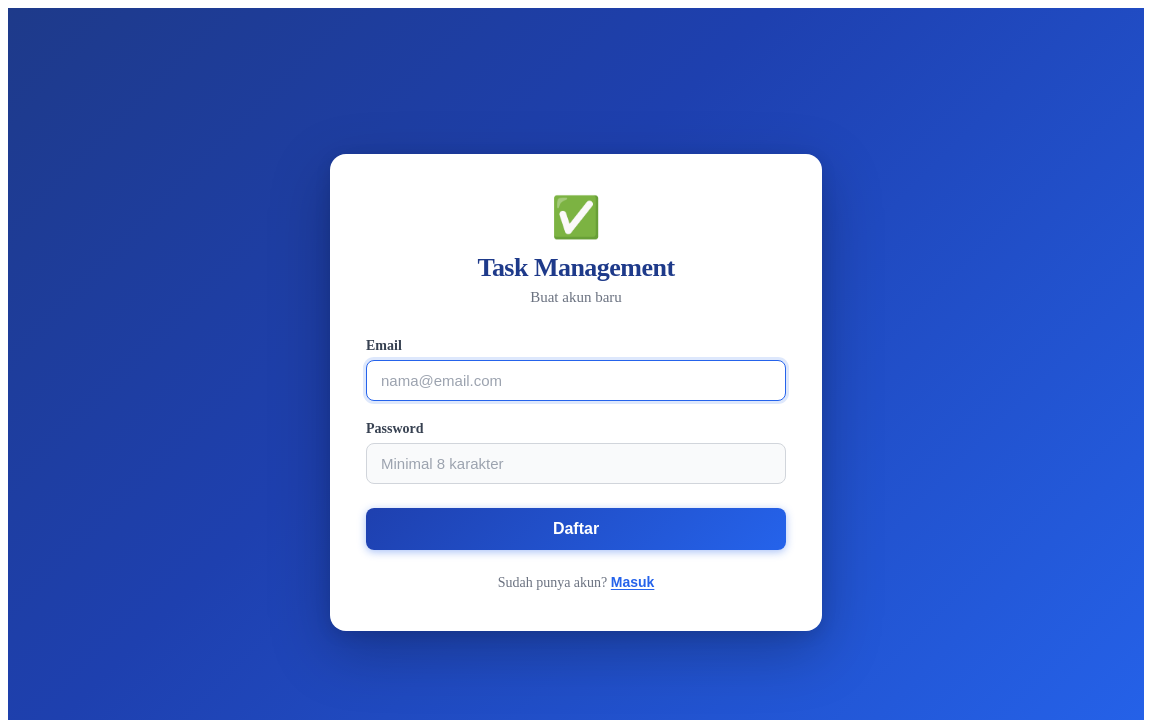
Test: RegisterForm › tombol disabled saat submitting
In the field labelled "Email": (576, 380) [366,360,786,400], type "user@example.com"
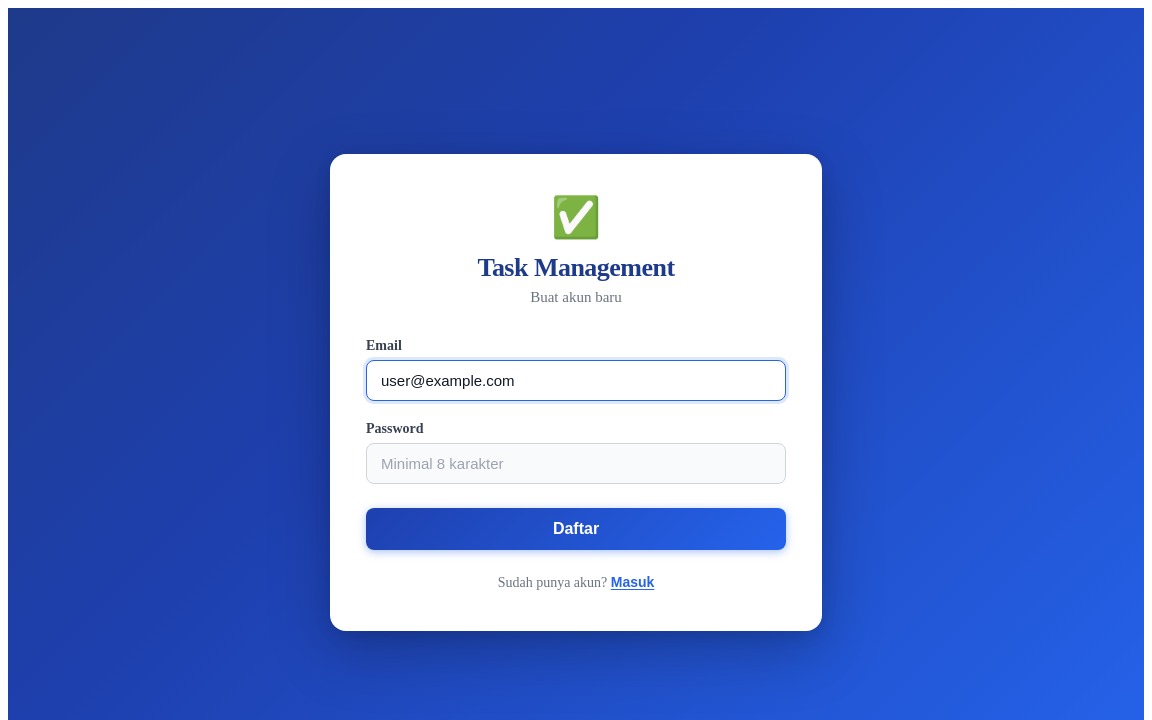
In the password field labelled "Password": (576, 463) [366,442,786,484], type "password123"
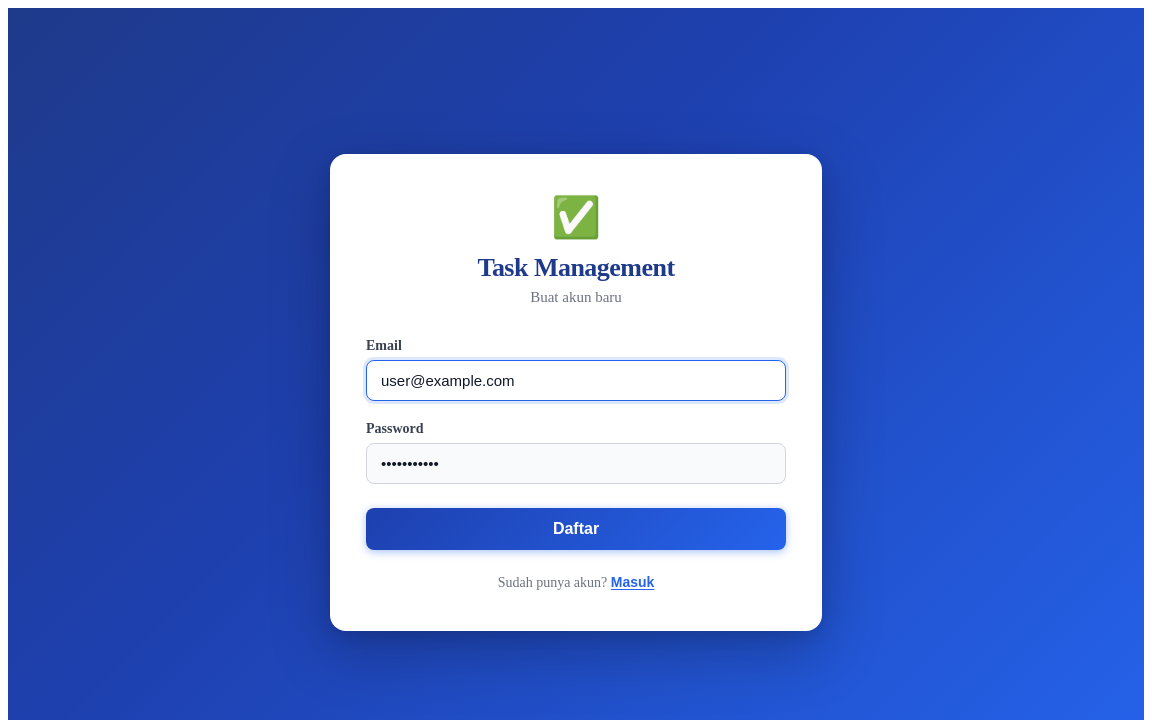
Click the button "Daftar": (576, 528) [366,508,786,550]
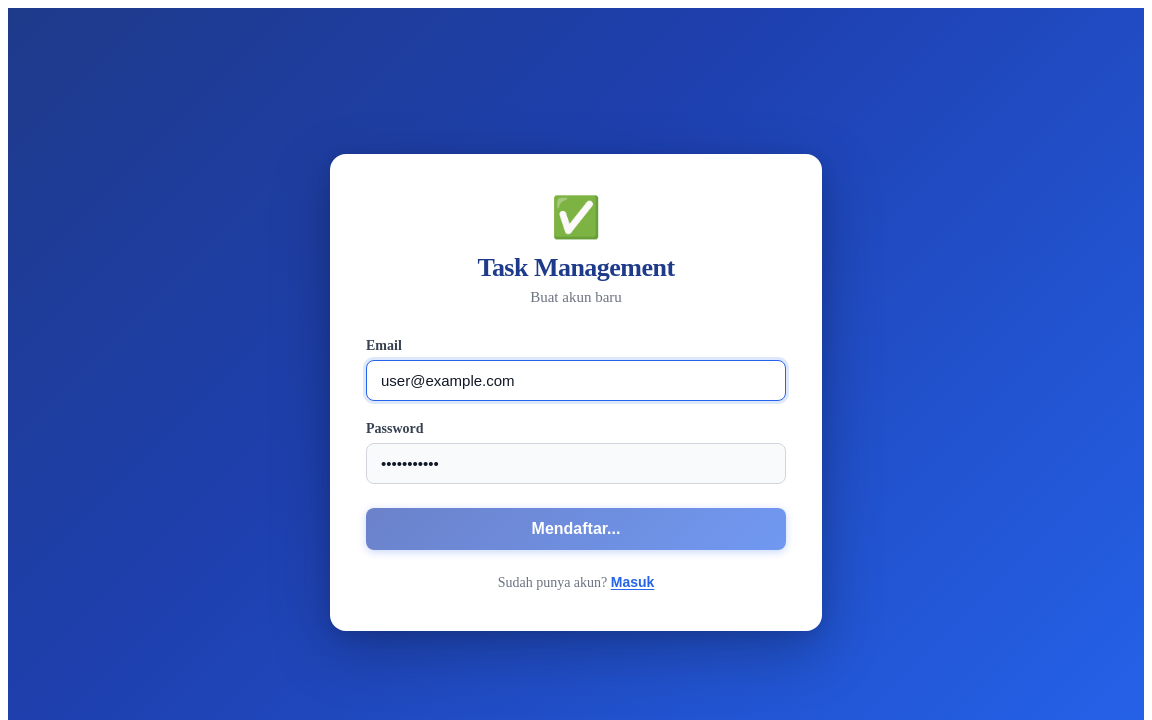
Result: the button "Mendaftar..." is disabled at [366,508,786,550]
